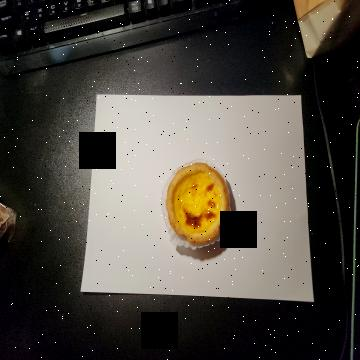EggTart: (165, 160, 230, 242)
